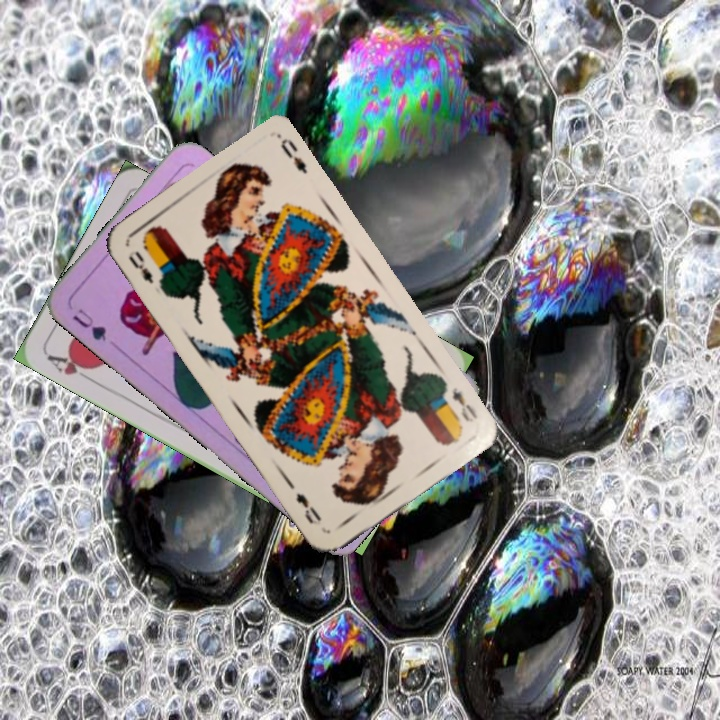EO: (124, 246, 165, 291), (448, 383, 480, 426)
GU: (68, 304, 109, 344)
HA: (42, 349, 97, 386)
